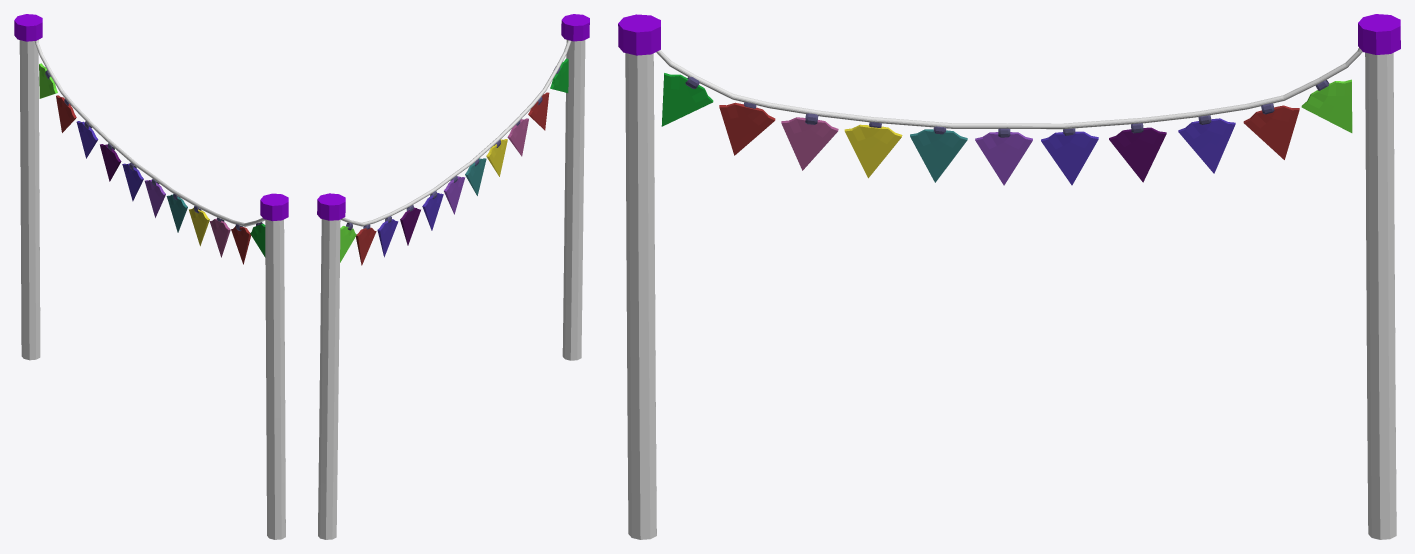
The model's file is flag1.fbx.
3 renders of one model, left to right at view 1: azimuth 30°, elevation 25°; view 2: azimuth 150°, elevation 25°; view 3: azimuth 270°, elevation 25°, orthographic. The views are drawn at different scales.
Parts seen in each view (by area): view 1: flag; view 2: flag; view 3: flag.
Part boxes in pixels (box(x1,y1,x2,y2)): flag: box(14, 14, 288, 539); flag: box(317, 14, 589, 539); flag: box(618, 14, 1400, 539).
Size of the model in its own units: 55.89 by 701 by 977.
